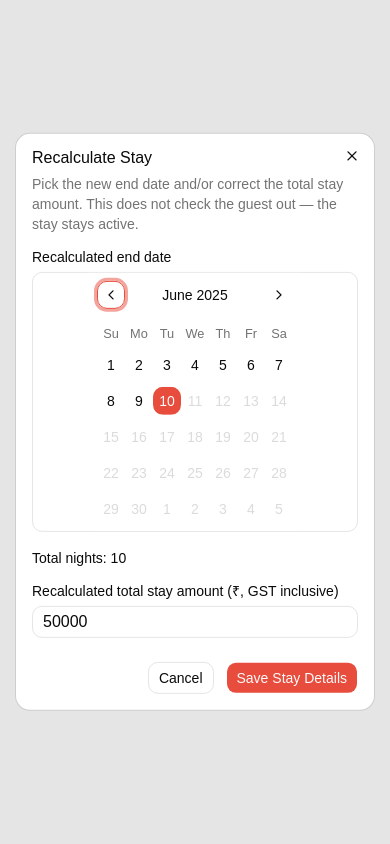
RecalculateStayDialog — Derived Total nights (Req 12.3) › updates the 'Total nights' text when a different date is selected
Click the 1st button "5".
click(223, 365)  # box x1=209 y1=351 x2=237 y2=379
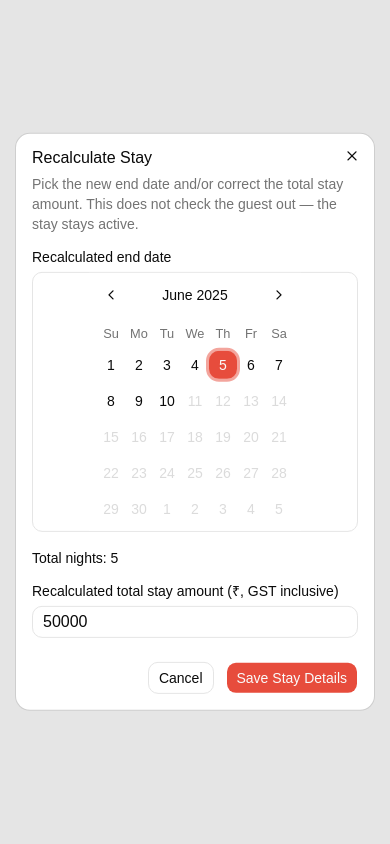
Now the text "Total nights: 5" is shown, box x1=32 y1=550 x2=118 y2=566
